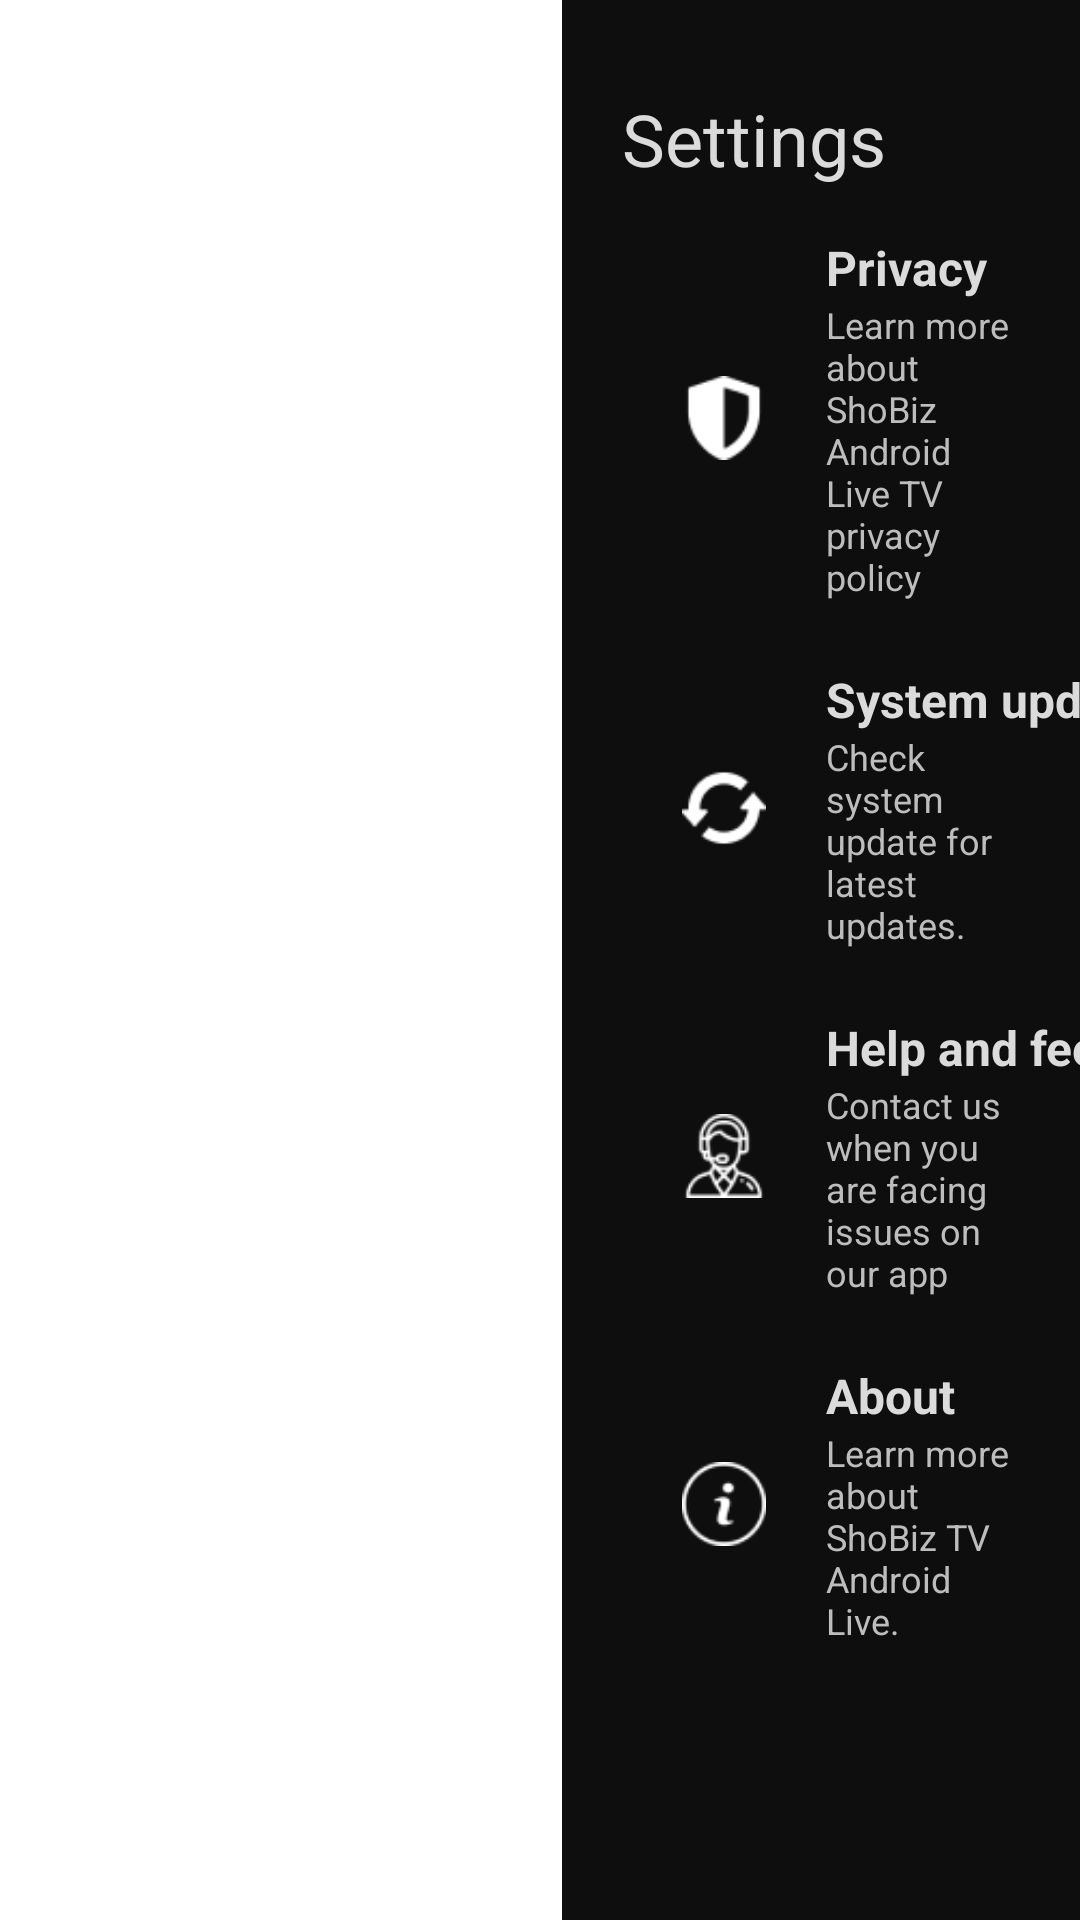

Screen size 1080x1920. Icon name, then its box in pixels as box=[x1, y1, x2, y2]:
info: box=[682, 1462, 766, 1546]
shield: box=[687, 376, 761, 460]
